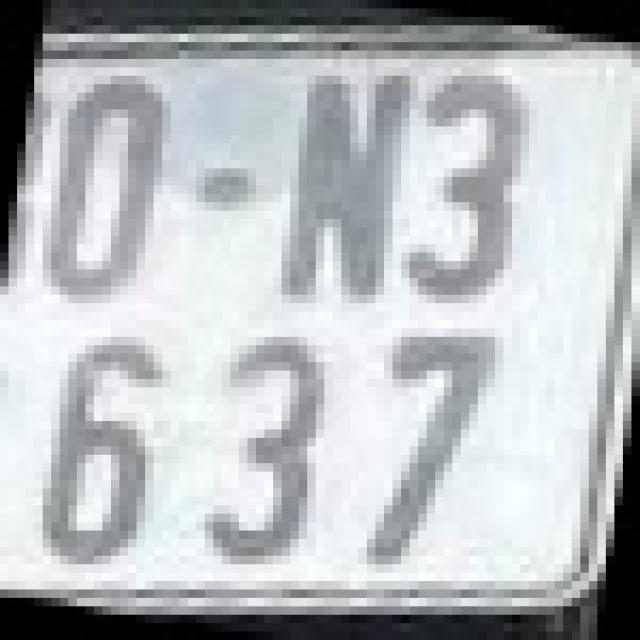0: (42, 75, 162, 304)
3: (410, 68, 530, 304), (204, 336, 324, 564)
6: (34, 328, 162, 564)
7: (367, 328, 495, 564)
N: (264, 63, 402, 299)
